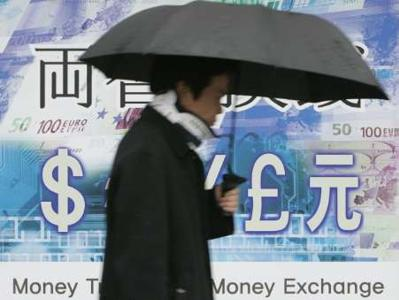person: (99, 54, 240, 300)
